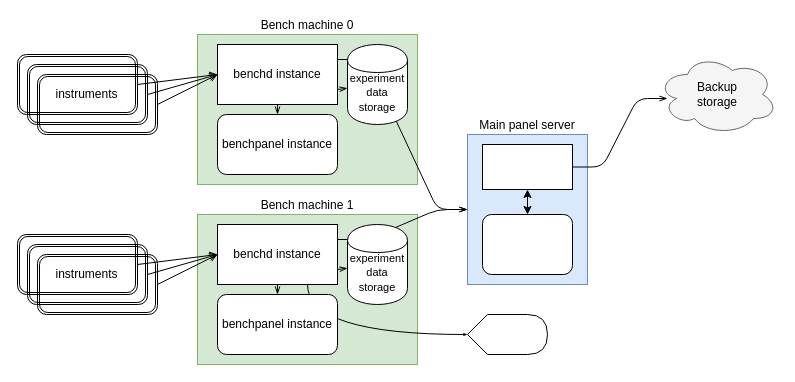
This 795x382 diagram has some shape labels left out. Each missing label, with the centre of its shape:
"ad-hoc benchrepl" belongs at pixel 507 334.
"benchd-aggregator" belongs at pixel 527 167.
"benchpanel instance (main)" belongs at pixel 527 244.
